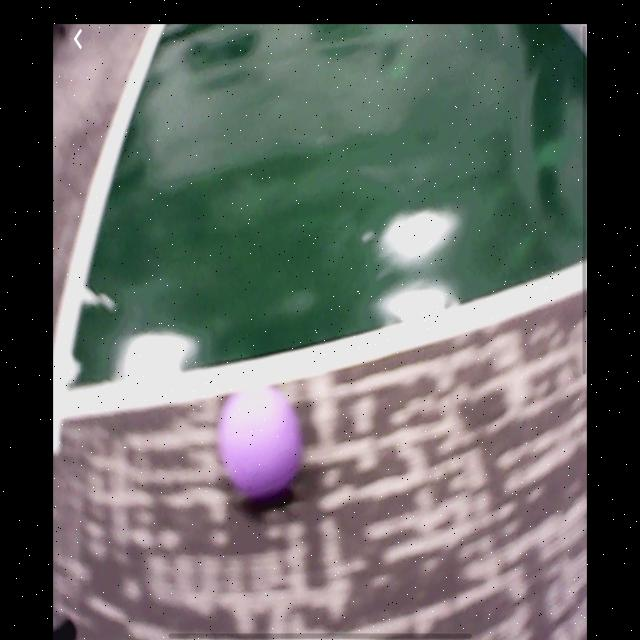ball: (217, 384, 305, 502)
